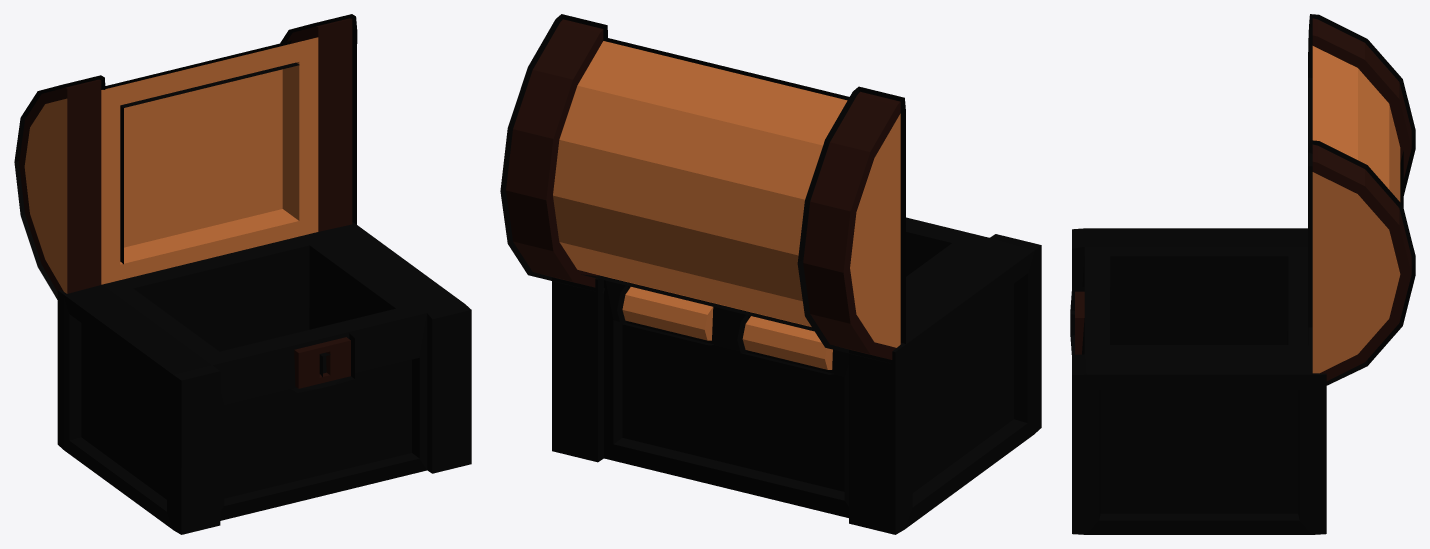
The model's file is chest.FBX.
3 views of the same model, side by side, from view 1: azimuth 30°, elevation 25°; view 2: azimuth 150°, elevation 25°; view 3: azimuth 270°, elevation 25° (orthographic). The views are drawn at different scales.
Visible parts, largest first — view 1: chestopen_outline, chestopen_cap, chestopen_cap_outline, chestopen; view 2: chestopen_cap, chestopen_outline, chestopen_cap_outline, chestopen; view 3: chestopen_outline, chestopen_cap, chestopen_cap_outline, chestopen.
Part boxes in pixels (x1,y1,x2,y2): chestopen_outline: [57, 222, 471, 534]; chestopen_cap: [19, 18, 352, 293]; chestopen_cap_outline: [14, 14, 357, 299]; chestopen: [294, 337, 350, 388]; chestopen_cap: [506, 19, 900, 359]; chestopen_outline: [552, 217, 1041, 534]; chestopen_cap_outline: [500, 14, 905, 362]; chestopen: [622, 287, 832, 369]; chestopen_outline: [1070, 228, 1326, 534]; chestopen_cap: [1312, 18, 1411, 380]; chestopen_cap_outline: [1308, 14, 1415, 385]; chestopen: [1075, 291, 1084, 354].
Bounding box in the file's own units: 95.88 × 114 × 94.73.
